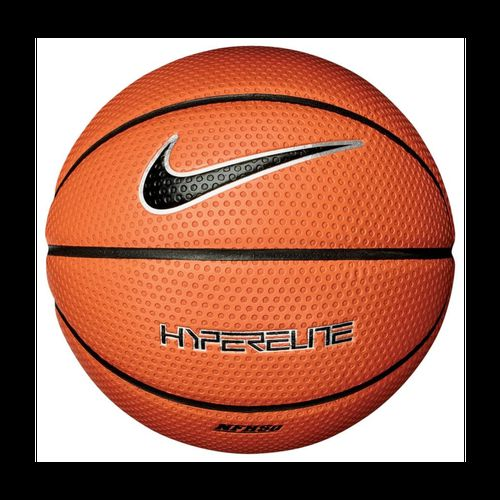ball: (51, 49, 451, 448)
